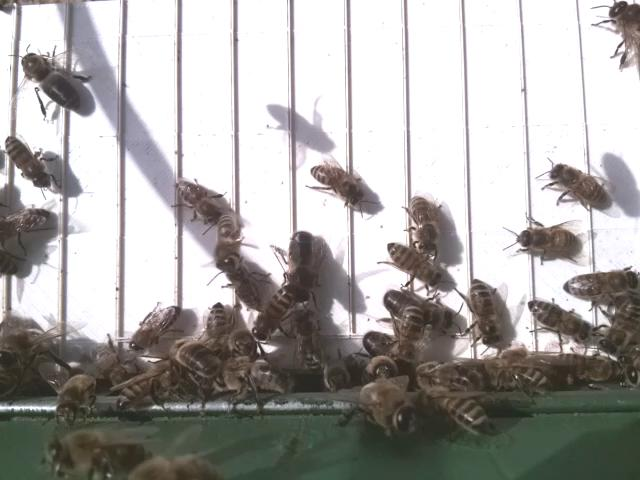Drone: (15, 47, 85, 115), (380, 285, 458, 331), (284, 227, 318, 307)
Worker: (548, 159, 610, 212), (2, 131, 53, 192), (524, 295, 588, 341), (467, 275, 504, 351), (130, 303, 184, 354), (382, 241, 440, 288), (513, 222, 580, 262), (560, 267, 640, 300), (308, 160, 365, 206), (250, 284, 294, 340), (408, 190, 443, 254), (173, 175, 221, 220), (211, 211, 242, 274)
